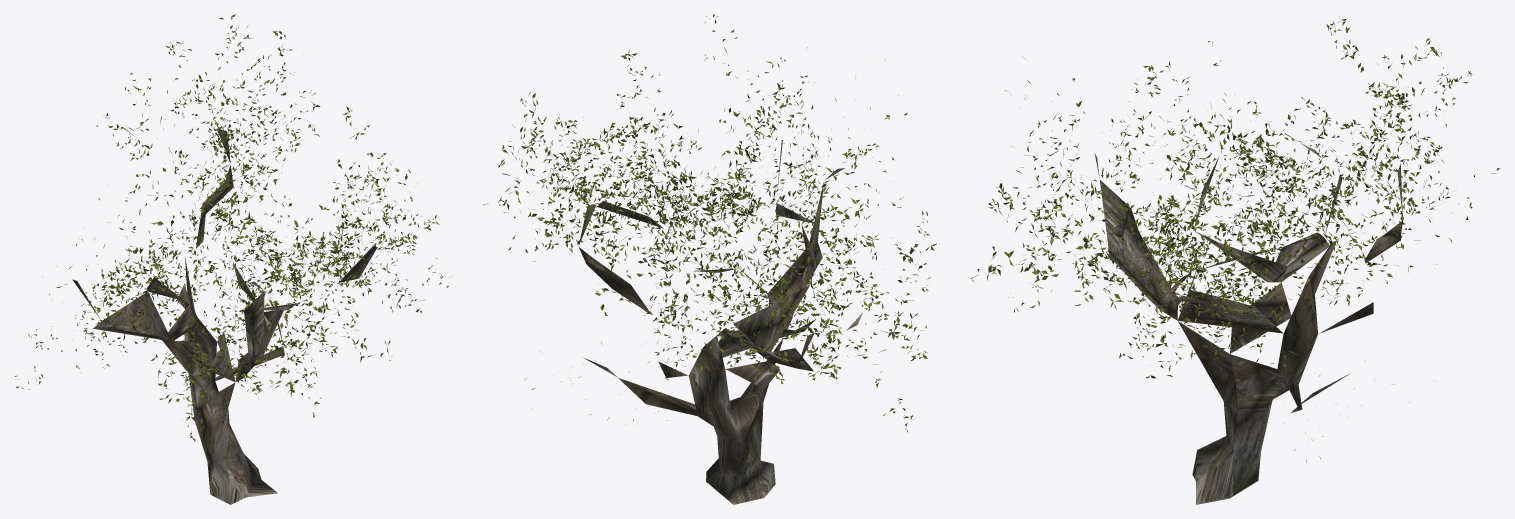
Rendered from island_tree_01_far.glb.
The picture shows the model from 3 angles, left to right: view 1: azimuth 30°, elevation 25°; view 2: azimuth 150°, elevation 25°; view 3: azimuth 270°, elevation 25°; orthographic projection. The views are drawn at different scales.
Parts seen in each view (by area): view 1: island_tree_01_LOD0; view 2: island_tree_01_LOD0; view 3: island_tree_01_LOD0.
Boxes of the visible parts, x1,y1,x2,y2 form: island_tree_01_LOD0: (15,14,452,504); island_tree_01_LOD0: (483,14,939,504); island_tree_01_LOD0: (970,18,1499,504).
Bounding box in the file's own units: 4.68 × 4.96 × 4.79.
3 materials, 3 textured.
